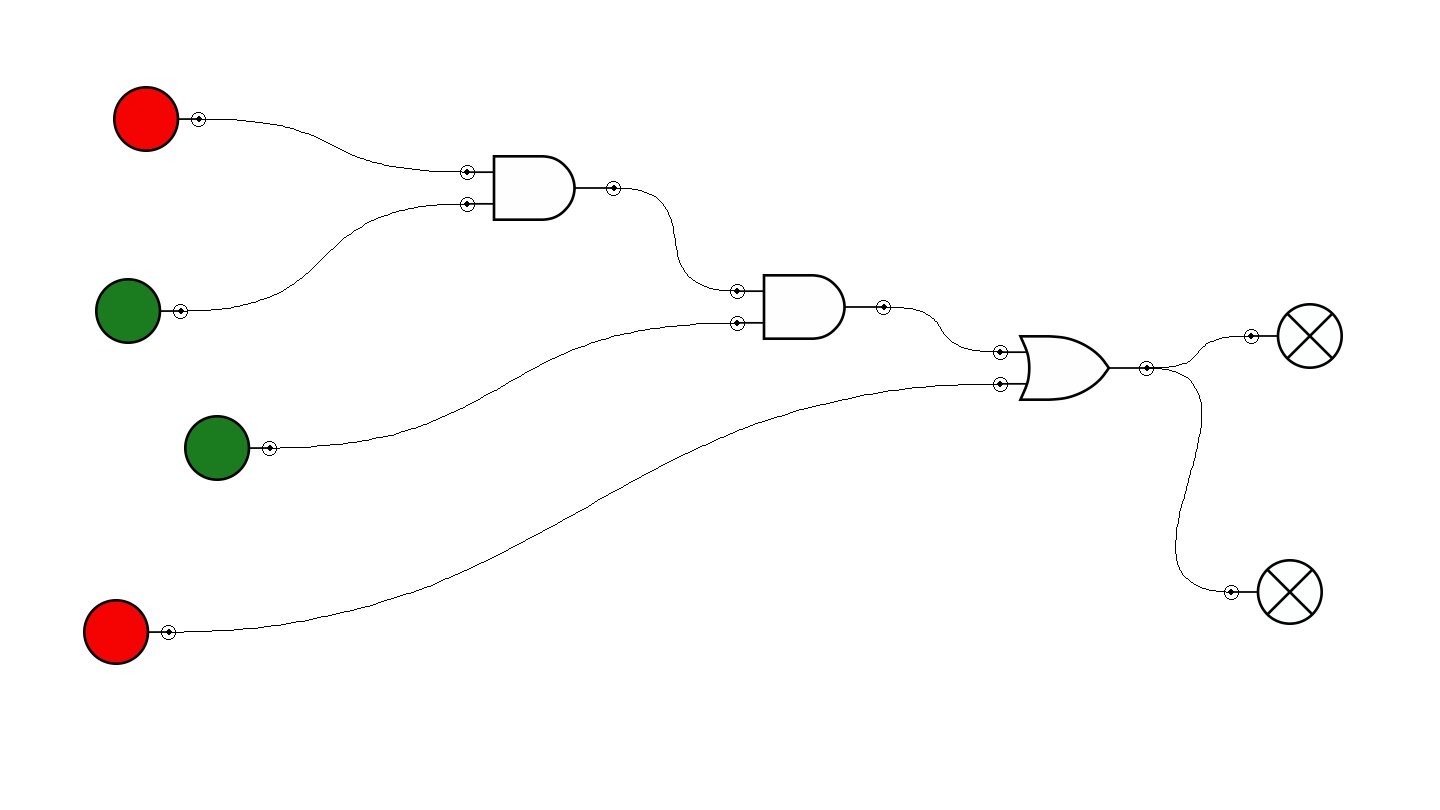and: (730, 274, 891, 340), (460, 155, 621, 221)
bulb: (1224, 559, 1323, 625), (1244, 303, 1343, 369)
or: (993, 335, 1154, 401)
switch_False: (113, 86, 206, 152), (83, 599, 176, 665)
switch_True: (95, 278, 188, 344), (184, 415, 277, 481)
